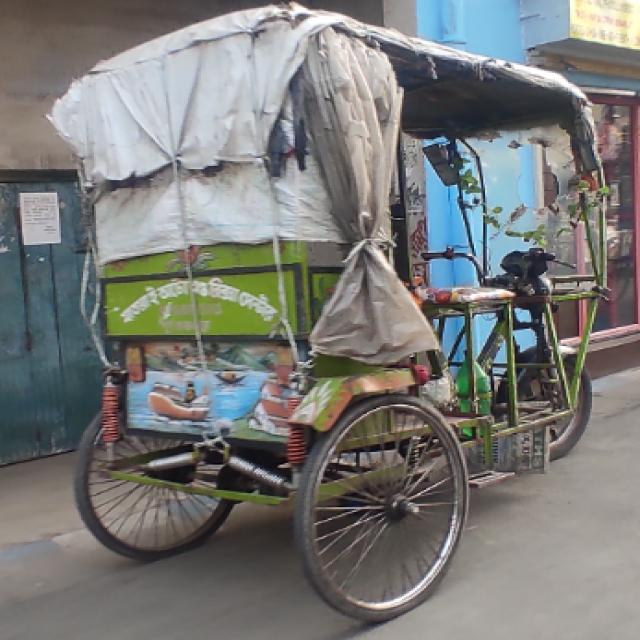rickshaw: (50, 2, 616, 624)
